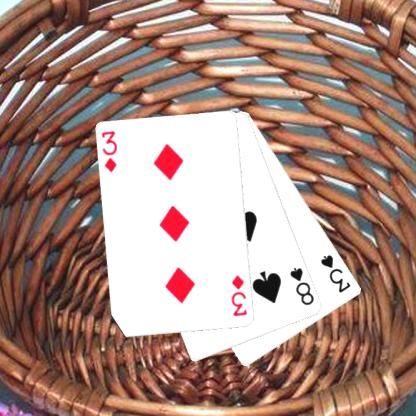3D: (229, 272, 249, 318), (99, 129, 119, 174)
3S: (318, 252, 352, 294)
8S: (287, 265, 316, 307)
